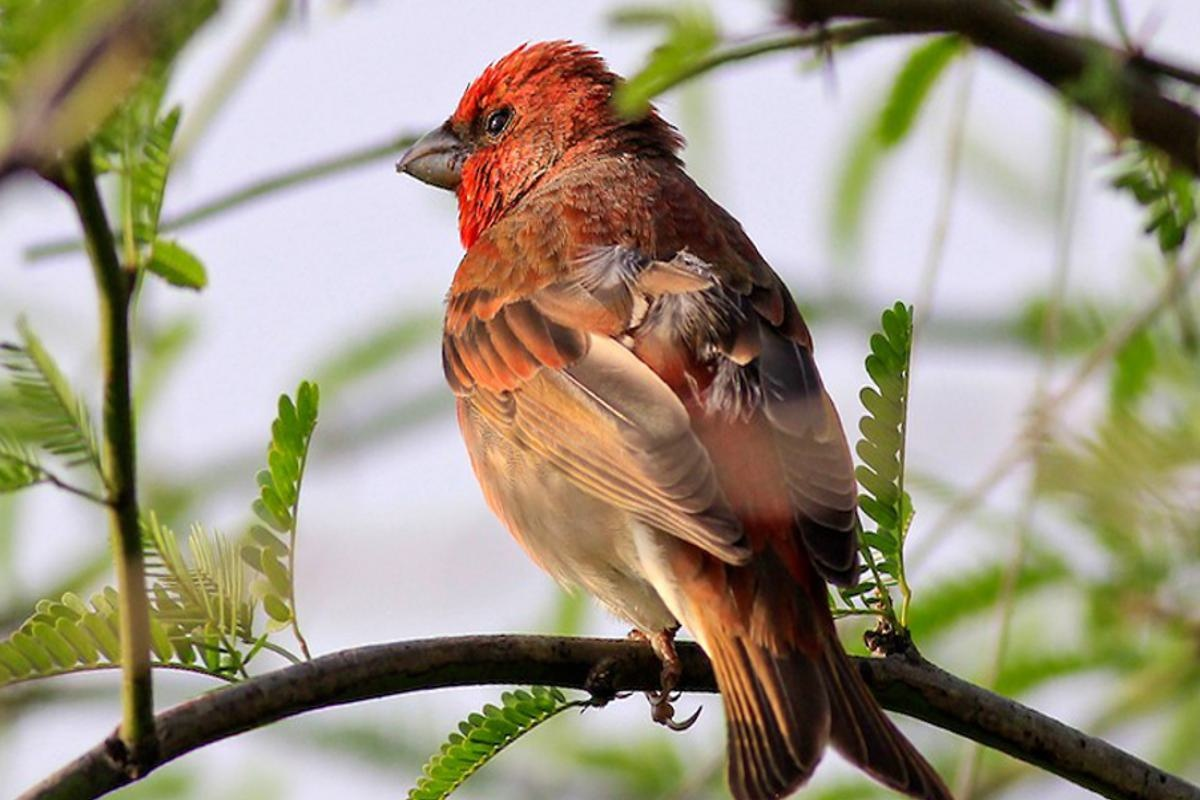rosefinch: (403, 52, 858, 727)
